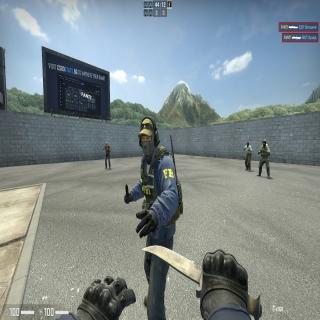CT-Body: (141, 117, 177, 320), (259, 139, 270, 179)
CT-Head: (140, 118, 158, 160), (262, 139, 266, 148)
T-Body: (245, 142, 252, 172), (104, 142, 110, 168)
T-Head: (105, 141, 108, 147), (247, 142, 249, 147)
